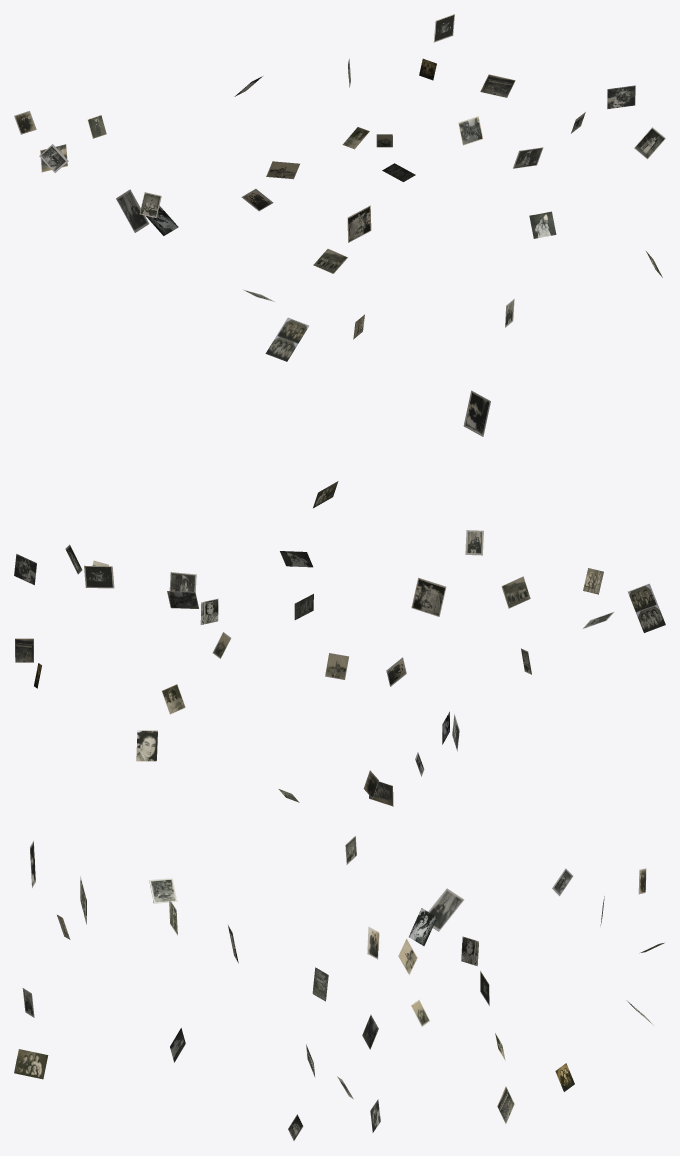
File: world_middle_nonclick_images.gltf
3 views of the same model, one above another, from view 1: azimuth 30°, elevation 25°; view 2: azimuth 150°, elevation 25°; view 3: azimuth 270°, elevation 25° (orthographic). The views are drawn at different scales.
Visible parts, largest first — view 1: image.014, image.013, image.039, image.036, image.015, image.008, image.041, image.022; view 2: image.014, image.039, image.033, image.017, image.028; view 3: image.023, image.013, image.026, image.007.
Part boxes in pixels (bbox=[...]): image.014: bbox=[265, 317, 308, 361]; image.013: bbox=[116, 189, 149, 232]; image.039: bbox=[347, 205, 371, 242]; image.036: bbox=[607, 85, 635, 109]; image.015: bbox=[529, 211, 556, 238]; image.008: bbox=[480, 74, 515, 97]; image.041: bbox=[458, 116, 482, 145]; image.022: bbox=[634, 127, 665, 159]; image.014: bbox=[628, 583, 665, 632]; image.039: bbox=[411, 577, 446, 616]; image.033: bbox=[463, 390, 490, 436]; image.017: bbox=[136, 730, 157, 761]; image.028: bbox=[84, 565, 114, 588]; image.023: bbox=[14, 1049, 48, 1079]; image.013: bbox=[428, 888, 464, 931]; image.026: bbox=[149, 877, 177, 903]; image.007: bbox=[408, 908, 437, 945].
Size of the model in its own units: 24.69 by 8.05 by 26.28.
Materials: 31 (31 with a texture image).
